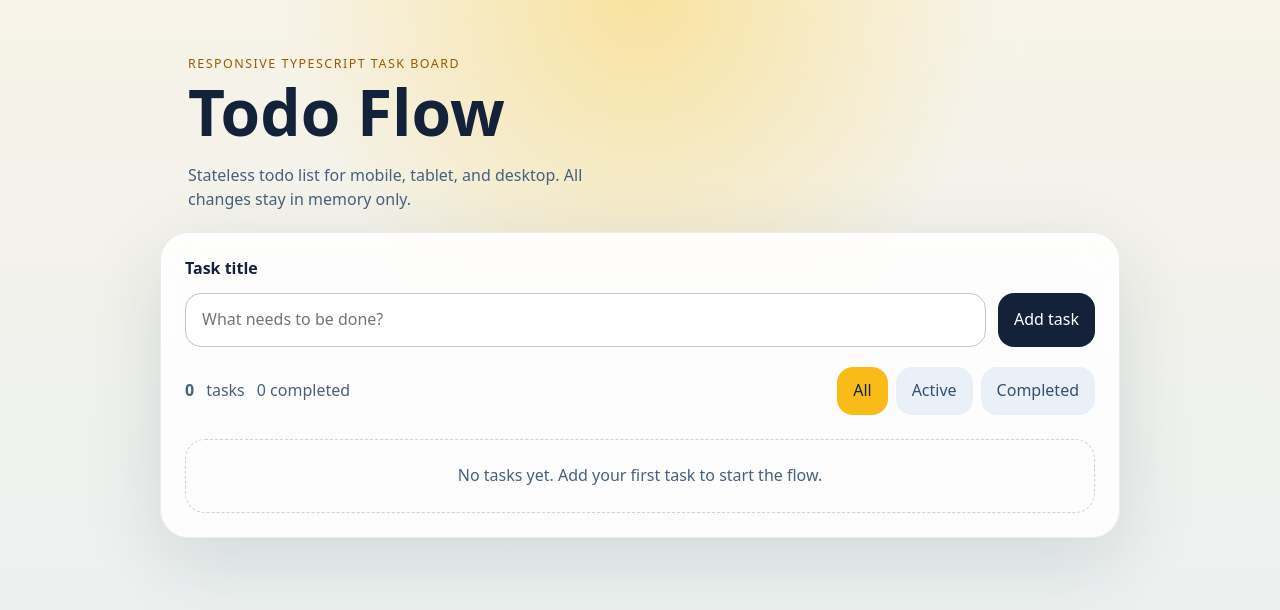
Test: App › adds and shows a new todo item
The width and height of the screenshot is (1280, 610).
Type "Buy oat milk" into the field labelled "Task title".
click(586, 320); type("Buy oat milk")  # box [185,292,986,346]
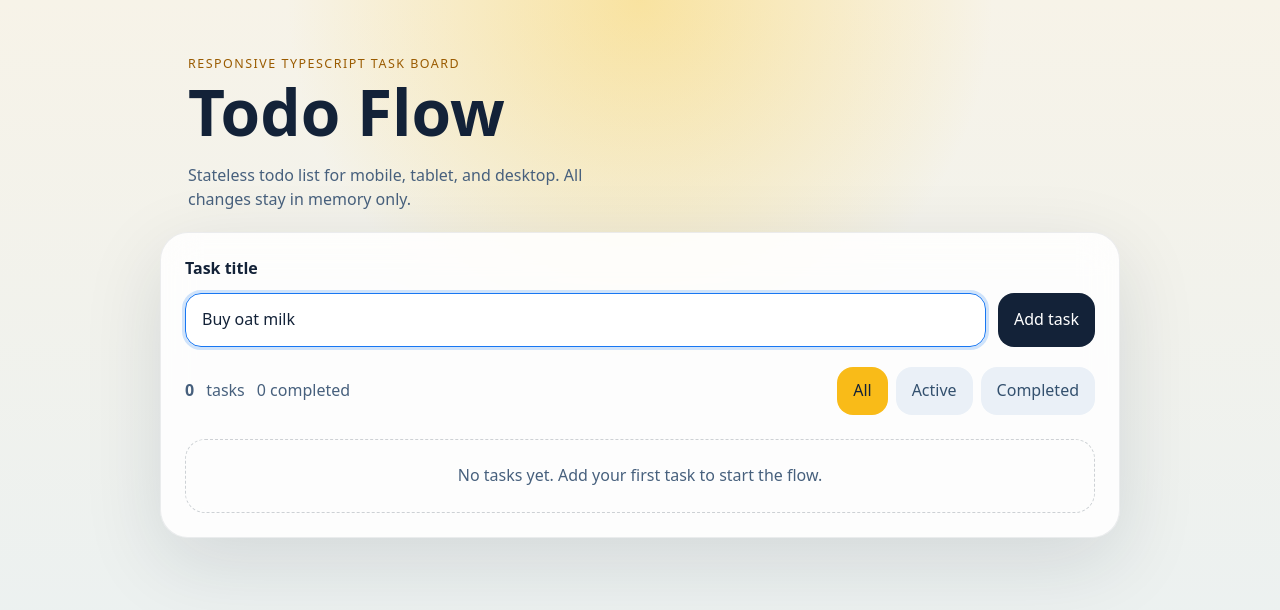
Click the button "Add task".
click(1046, 320)  # box [998,292,1095,346]
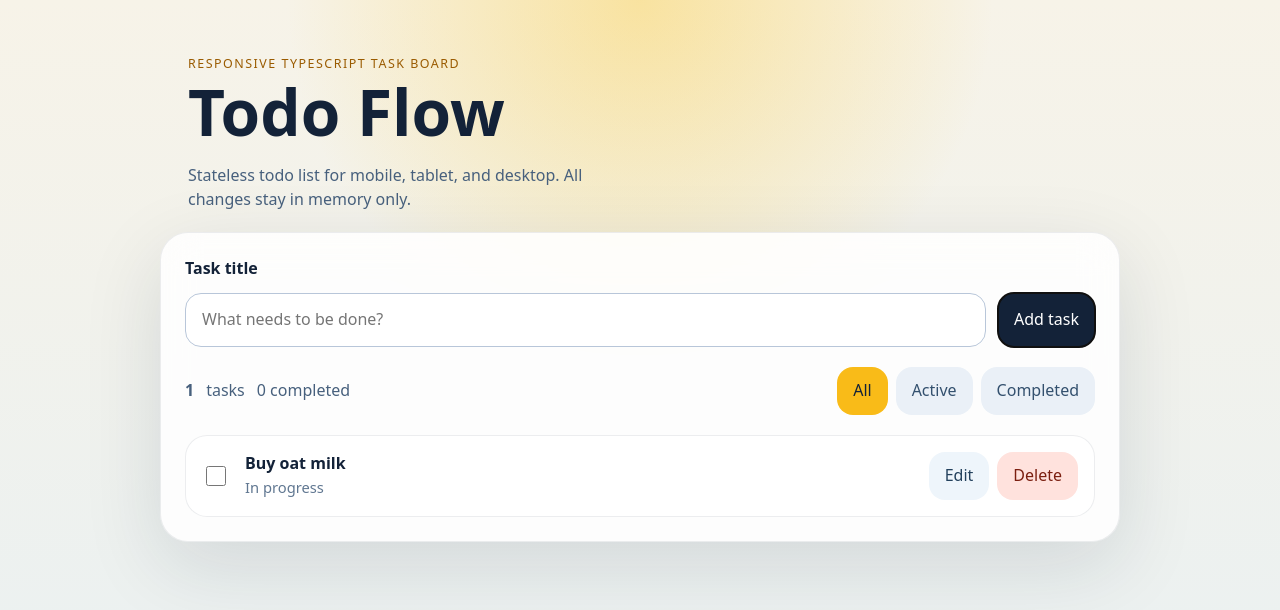
Result: the text "Buy oat milk" is shown at [245,452,346,476]
